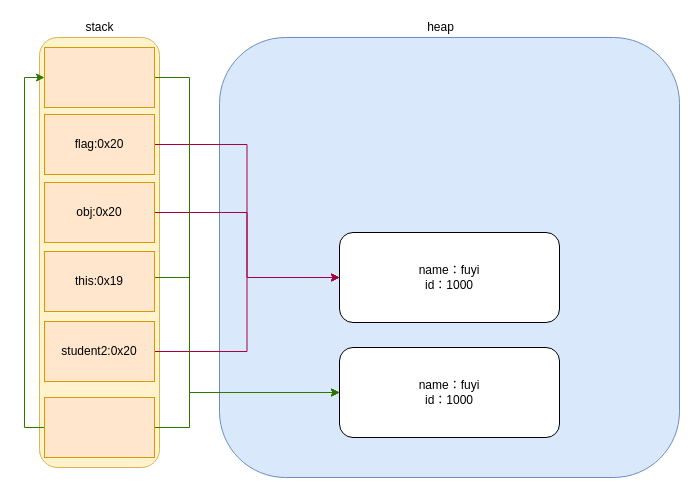
Image size: 697x495. Some labels were removed from this diagram. Each missing label, with the centre of its shape:
student1:0x19: the point at 99,427
student3:0x19: the point at 99,77
